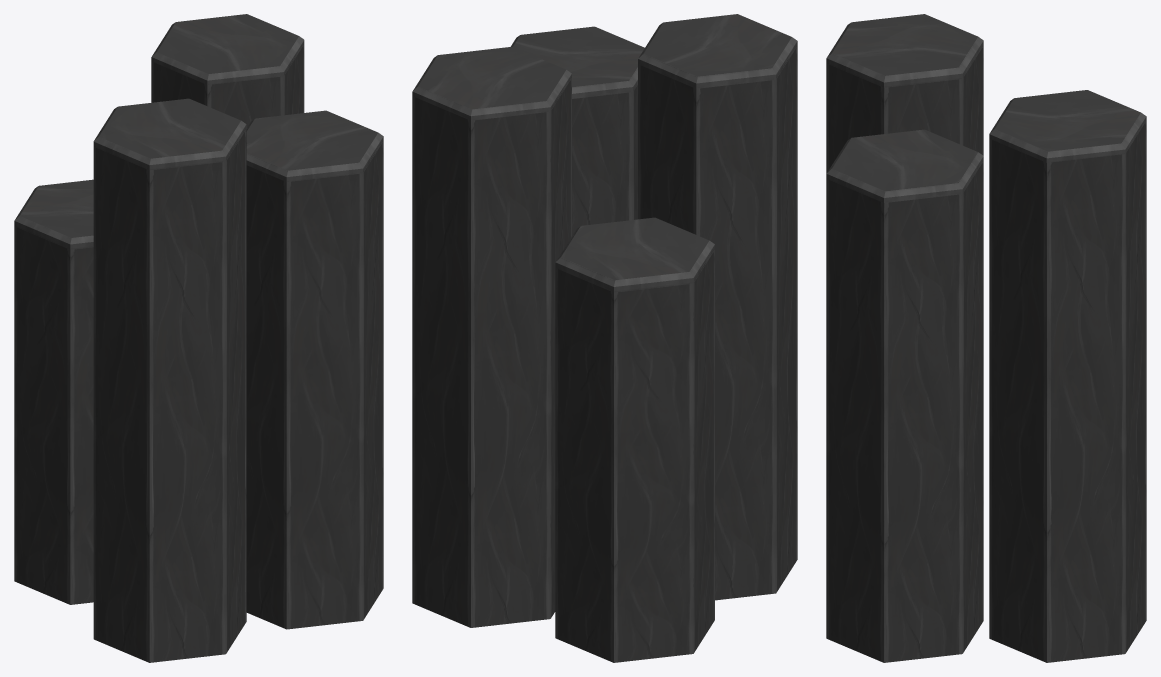
Rendered from SM_Causeway4.fbx.
3 views of the same model, side by side, from view 1: azimuth 30°, elevation 25°; view 2: azimuth 150°, elevation 25°; view 3: azimuth 270°, elevation 25° (orthographic). The views are drawn at different scales.
Parts seen in each view (by area): view 1: Causeway4; view 2: Causeway4; view 3: Causeway4.
Boxes of the visible parts, x1,y1,x2,y2 form: Causeway4: [14, 14, 383, 662]; Causeway4: [412, 14, 797, 662]; Causeway4: [826, 14, 1146, 662].
Size of the model in its own units: 393 by 700 by 393.
